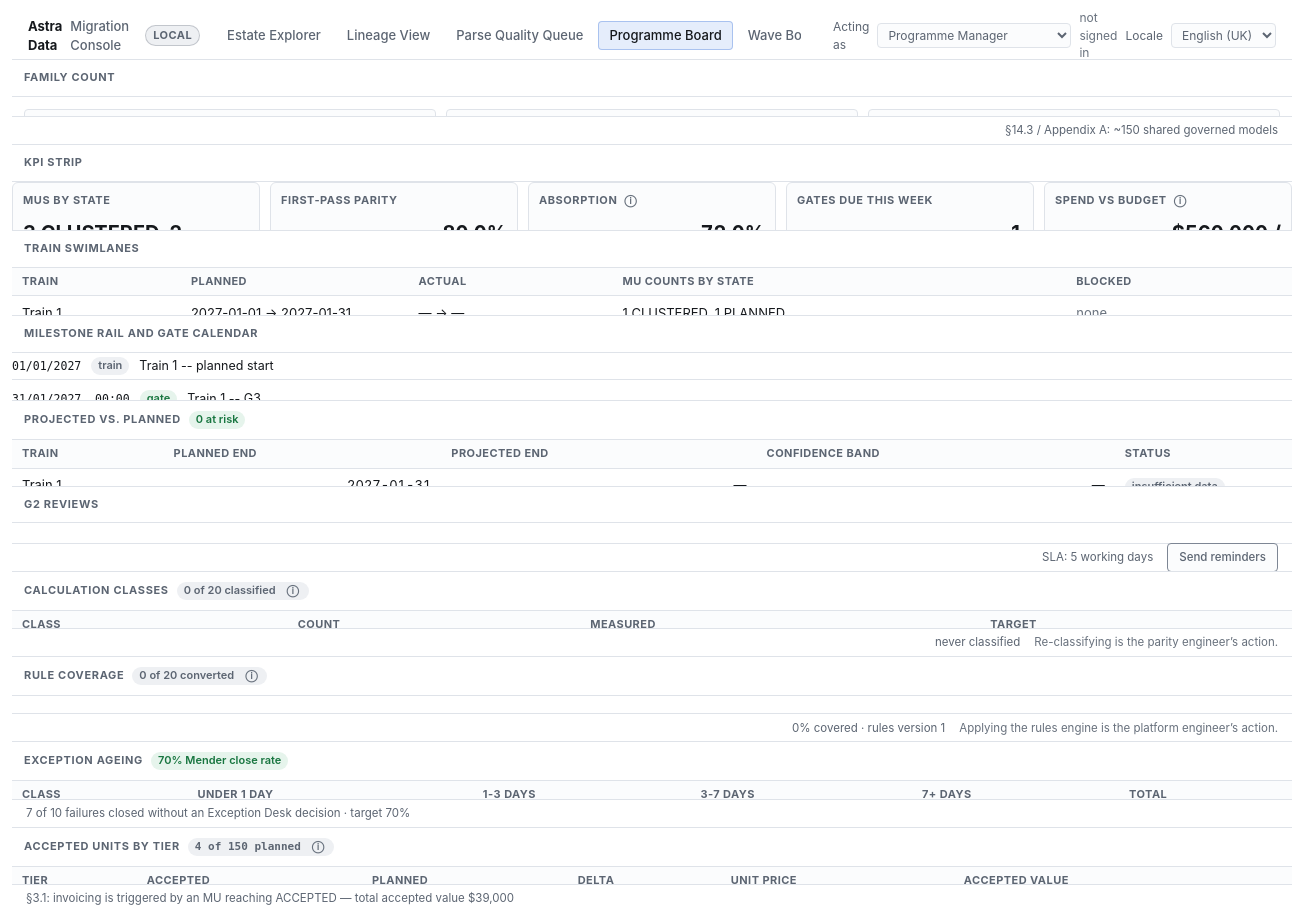
it: changing "Acting as" re-lands on the new role › switches surface and nav together
Expected: the element named "Family count calibration" is shown, [12, 60, 1291, 144]
Select "Client Licence Administrator" in the dropdown labelled "Acting as" at (974, 36), box [877, 23, 1071, 48]
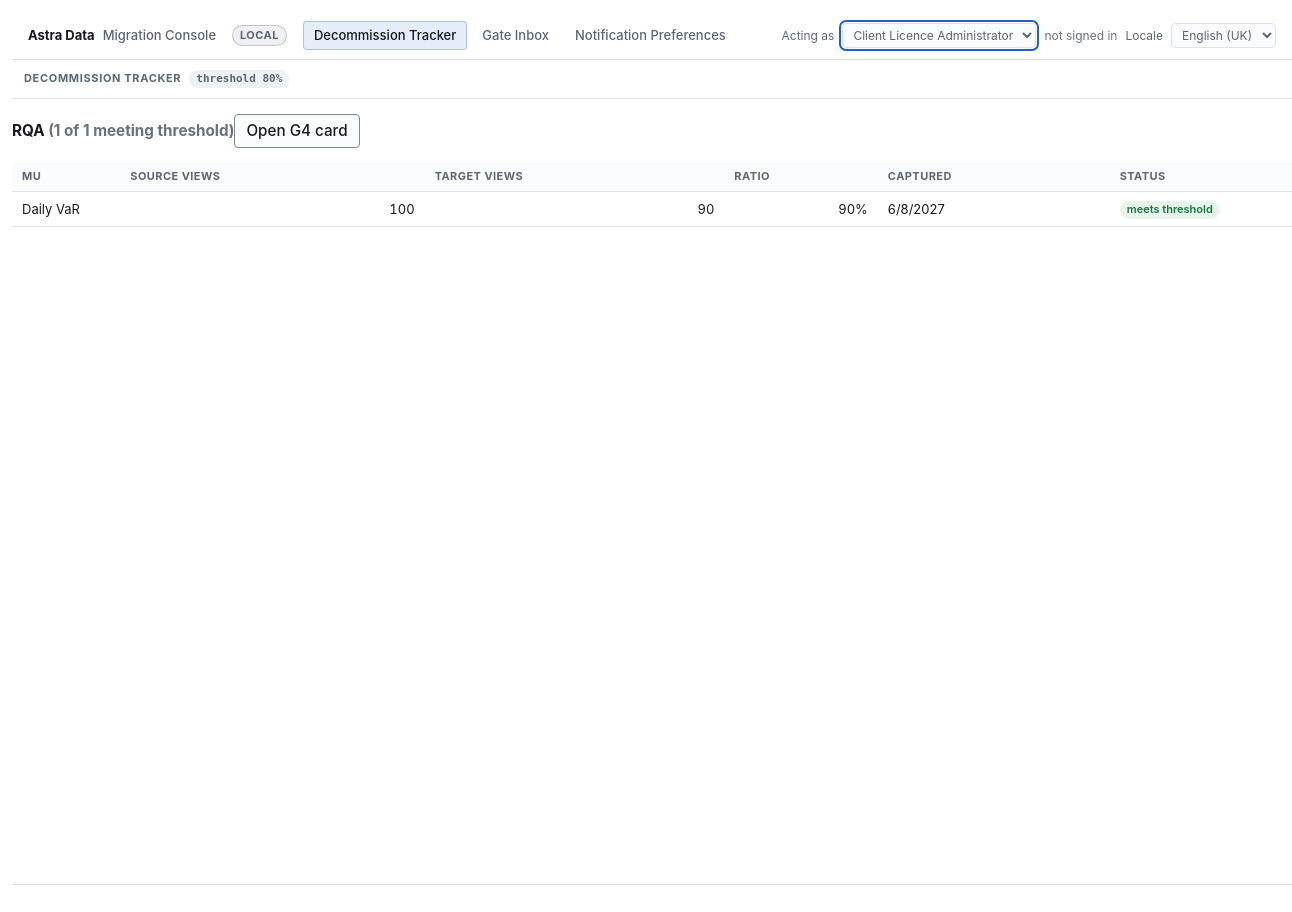
Expected: the element "Decommission Tracker" is shown
Expected: the button "Programme Board" is gone
Expected: the button "Decommission Tracker" is shown, [303, 21, 467, 50]
